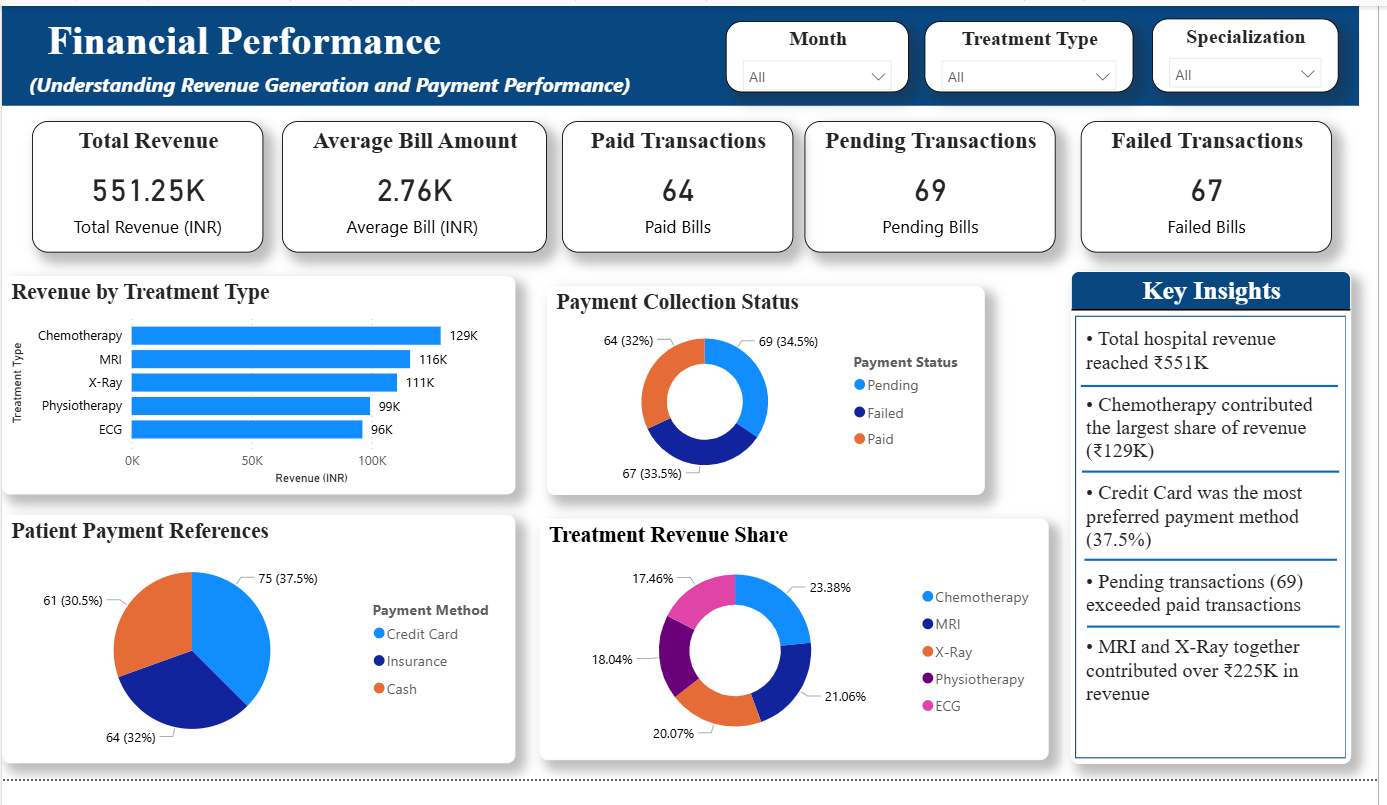

What the dashboard file says about the page in this screenshot:
{"tool":"powerbi","page":{"name":"Financial Analysis","canvas":[1280,720],"ordinal":2},"visuals":[{"type":"textbox","box":[0,0,1262.8,93],"z":0},{"type":"card","title":"Total Revenue","fields":{"Values":["billing.Total Revenue (INR)"]},"box":[27.9,107,215.1,122.1],"z":1000},{"type":"card","title":"Pending Transactions","fields":{"Values":["billing.Pending Bills"]},"box":[746.5,107,233.7,122.1],"z":2000},{"type":"clusteredBarChart","title":"Revenue by Treatment Type","fields":{"Category":["treatments.treatment_type"],"Y":["Sum(billing.amount)"]},"box":[0,251.2,477.9,203.5],"z":3000},{"type":"pieChart","title":"Patient Payment References","fields":{"Y":["CountNonNull(billing.bill_id)"],"Category":["billing.payment_method"]},"box":[0,473.3,477.9,231.4],"z":4000},{"type":"donutChart","title":"Treatment Revenue Share","fields":{"Category":["treatments.treatment_type"],"Y":["Sum(billing.amount)"]},"box":[500,476.7,473.3,224.4],"z":5000},{"type":"shape","title":"Key Insights   ","box":[994.2,246.5,260.5,458.1],"z":6000},{"type":"textbox","box":[1003.5,294.2,239.5,407],"z":7000},{"type":"shape","box":[1004.7,425.6,239.5,15.1],"z":8000},{"type":"shape","box":[1003.5,329.1,239.5,48.8],"z":9000},{"type":"shape","box":[1007,504.7,234.9,20.9],"z":10000},{"type":"donutChart","title":"Payment Collection Status","fields":{"Category":["billing.payment_status"],"Y":["CountNonNull(billing.bill_id)"]},"box":[507,260.5,407,194.2],"z":11000},{"type":"slicer","title":"Month","fields":{"Values":["appointments.appointment_date.Variation.Date Hierarchy.Month"]},"box":[673.6,14.4,170.5,66],"z":12000},{"type":"slicer","title":"Treatment Type","fields":{"Values":["treatments.treatment_type"]},"box":[858.1,14,194.2,66.3],"z":13000},{"type":"slicer","title":"Specialization","fields":{"Values":["doctors.specialization"]},"box":[1069.8,11.6,173.3,68.6],"z":14000},{"type":"card","title":"Average Bill Amount","fields":{"Values":["billing.Average Bill"]},"box":[260.5,107,246.5,122.1],"z":15000},{"type":"card","title":"Paid Transactions","fields":{"Values":["billing.Paid Bills"]},"box":[520.9,107,215.1,122.1],"z":16000},{"type":"shape","box":[1009.3,547.7,234.9,59.3],"z":16001},{"type":"card","title":"Failed Transactions","fields":{"Values":["billing.Failed Bills"]},"box":[1003.5,107,233.7,122.1],"z":16003}]}

Visuals, with their boxes on the page's 1280x720 design canvas (x1, y1, x2, y2). These are canvas units, not pixel positions in the 1387x805 screenshot, which may show the page scaled, cropped or inside an application window:
textbox: 0 0 1263 93
"Total Revenue" card: 28 107 243 229
"Pending Transactions" card: 746 107 980 229
"Revenue by Treatment Type" clusteredBarChart: 0 251 478 455
"Patient Payment References" pieChart: 0 473 478 705
"Treatment Revenue Share" donutChart: 500 477 973 701
"Key Insights   " shape: 994 246 1255 705
textbox: 1004 294 1243 701
shape: 1005 426 1244 441
shape: 1004 329 1243 378
shape: 1007 505 1242 526
"Payment Collection Status" donutChart: 507 260 914 455
"Month" slicer: 674 14 844 80
"Treatment Type" slicer: 858 14 1052 80
"Specialization" slicer: 1070 12 1243 80
"Average Bill Amount" card: 260 107 507 229
"Paid Transactions" card: 521 107 736 229
shape: 1009 548 1244 607
"Failed Transactions" card: 1004 107 1237 229
